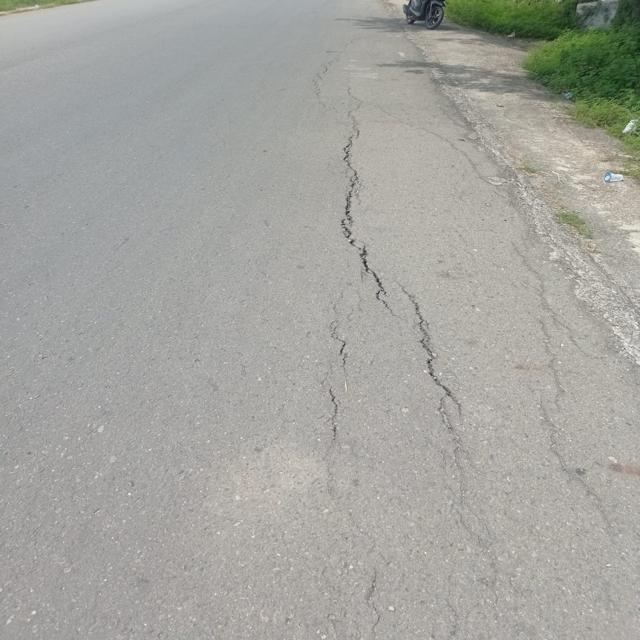Memanjang: (326, 103, 395, 313), (386, 286, 474, 422)
